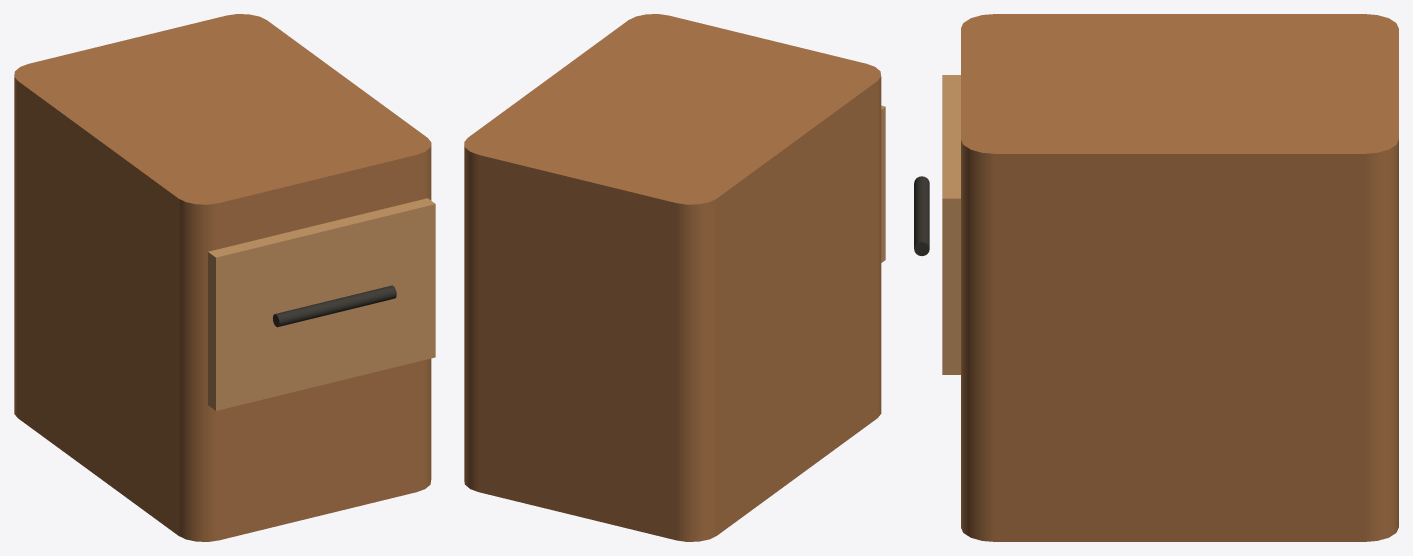
File: bedroom-bedside-cabinet-left.gltf
3 renders of one model, left to right at view 1: azimuth 30°, elevation 25°; view 2: azimuth 150°, elevation 25°; view 3: azimuth 270°, elevation 25°, orthographic. The views are drawn at different scales.
Visible parts, largest first — view 1: Bedside cabinet, Bedside drawer, Bedside drawer pull; view 2: Bedside cabinet, Bedside drawer; view 3: Bedside cabinet, Bedside drawer, Bedside drawer pull.
Part boxes in pixels (<box>): Bedside cabinet: <box>14,14,431,541</box>; Bedside drawer: <box>208,198,435,410</box>; Bedside drawer pull: <box>273,285,396,327</box>; Bedside cabinet: <box>464,14,881,541</box>; Bedside drawer: <box>881,105,885,262</box>; Bedside cabinet: <box>961,14,1398,541</box>; Bedside drawer: <box>942,75,960,374</box>; Bedside drawer pull: <box>914,176,929,255</box>.
Bounding box in the file's own units: 0.34 × 0.44 × 0.498.
